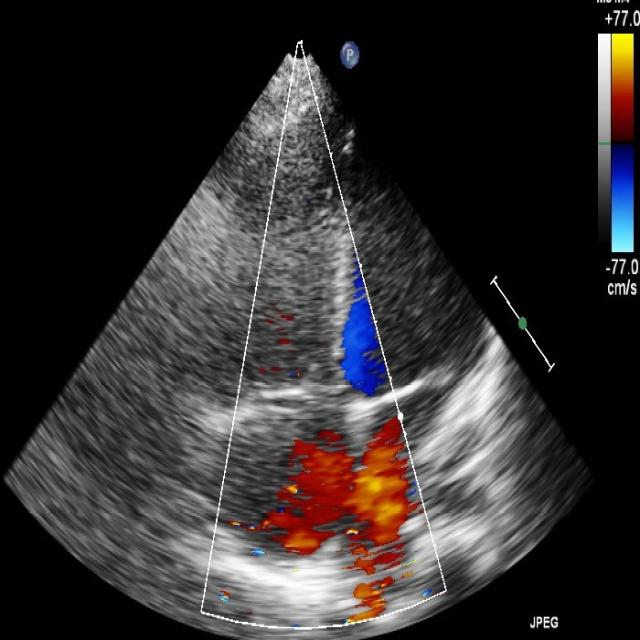ASDType2: (252, 418, 424, 574)
